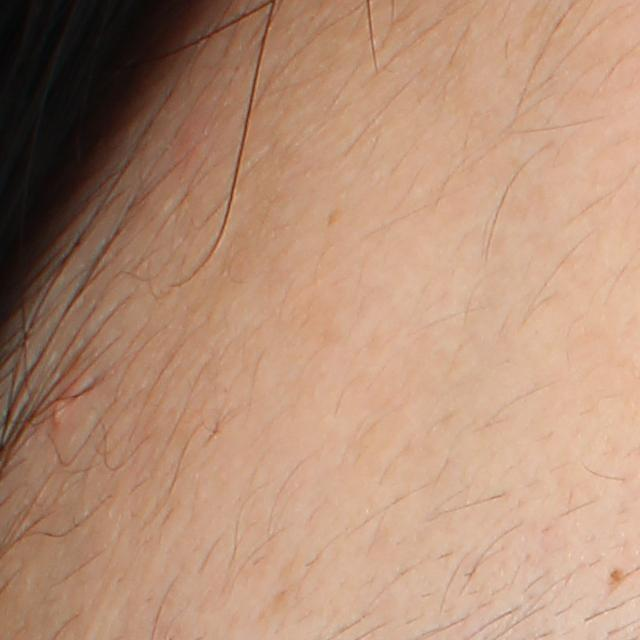nevus: (609, 567, 626, 585)
